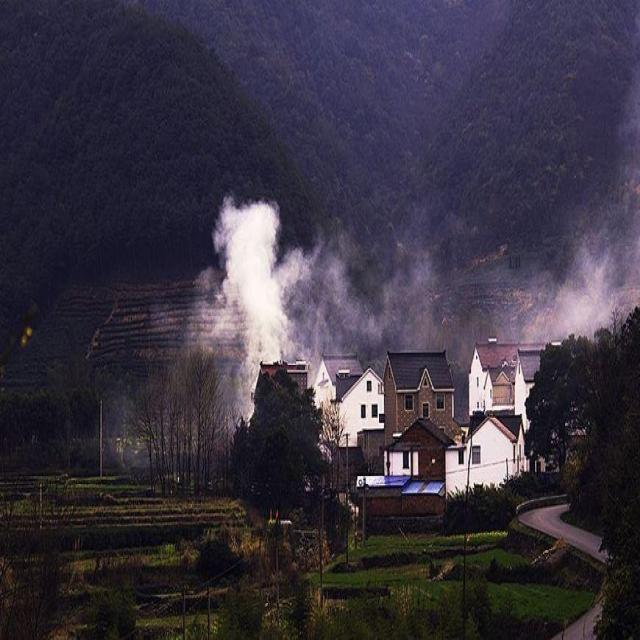Smoke: (184, 193, 640, 430)
